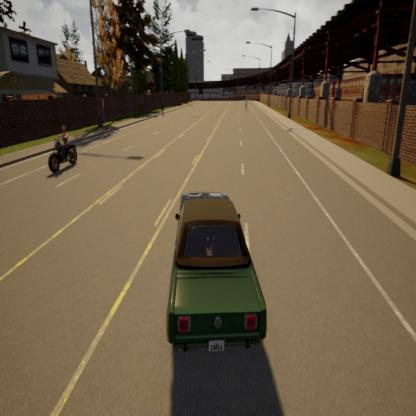Cars: (166, 192, 267, 356), (47, 122, 77, 176), (243, 96, 249, 114)
